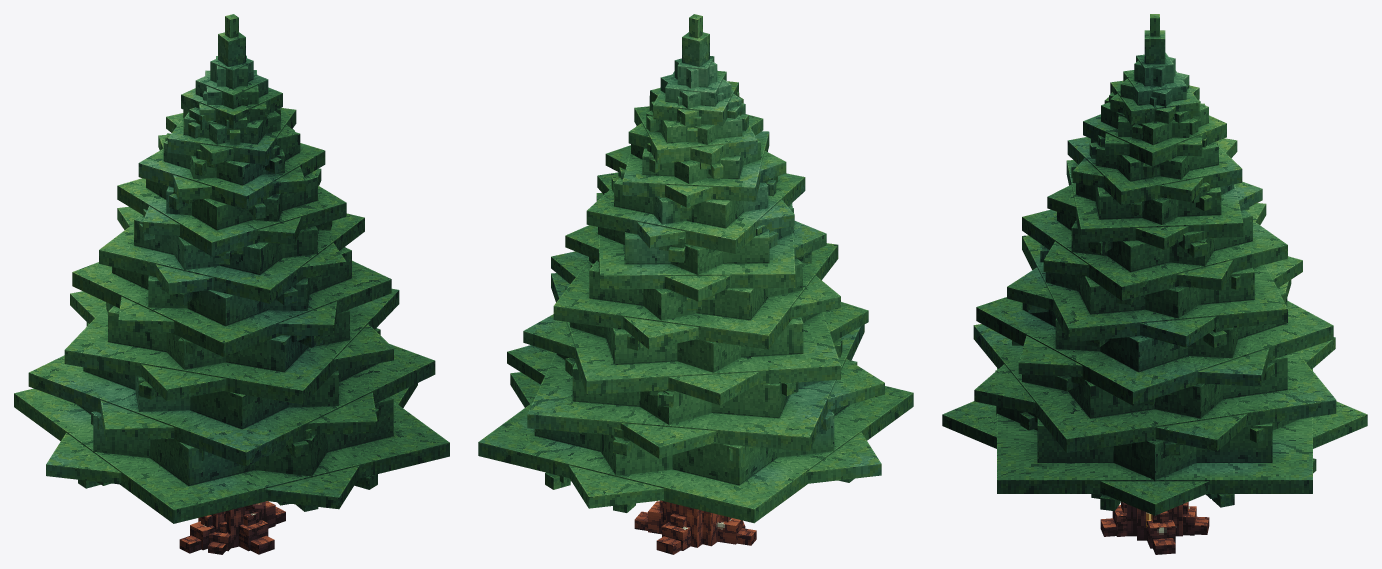
File: pine.glb
3 views of the same model, side by side, from view 1: azimuth 30°, elevation 25°; view 2: azimuth 150°, elevation 25°; view 3: azimuth 270°, elevation 25° (orthographic).
Parts seen in each view (by area): view 1: tier0_skirt_a, tier1_skirt_a, tier2_skirt_a, tier3_skirt_a, tier4_skirt_a, tier0_skirt_b, tier5_skirt_a, tier2_skirt_b, tier0_mid_a, tier1_skirt_b, tier6_skirt_a, tier1_mid_a (+26 smaller); view 2: tier0_skirt_a, tier1_skirt_a, tier2_skirt_a, tier3_skirt_a, tier0_skirt_b, tier4_skirt_a, tier1_skirt_b, tier5_skirt_a, tier2_skirt_b, tier0_mid_a, tier3_skirt_b, tier6_skirt_a (+28 smaller); view 3: tier0_skirt_a, tier1_skirt_a, tier2_skirt_a, tier3_skirt_a, tier4_skirt_a, tier0_skirt_b, tier1_skirt_b, tier5_skirt_a, tier2_skirt_b, tier3_skirt_b, tier6_skirt_a, tier0_mid_a (+28 smaller).
Part boxes in pixels (bbox=[...]): tier0_skirt_a: bbox=[14, 388, 449, 523]; tier1_skirt_a: bbox=[28, 344, 435, 466]; tier2_skirt_a: bbox=[64, 288, 399, 404]; tier3_skirt_a: bbox=[72, 260, 391, 357]; tier4_skirt_a: bbox=[99, 213, 364, 303]; tier0_skirt_b: bbox=[46, 383, 417, 509]; tier5_skirt_a: bbox=[117, 178, 346, 256]; tier2_skirt_b: bbox=[70, 291, 393, 400]; tier0_mid_a: bbox=[77, 396, 393, 485]; tier1_skirt_b: bbox=[86, 322, 377, 440]; tier6_skirt_a: bbox=[138, 143, 325, 210]; tier1_mid_a: bbox=[83, 328, 380, 429]; tier0_skirt_a: bbox=[478, 386, 913, 523]; tier1_skirt_a: bbox=[527, 324, 864, 451]; tier2_skirt_a: bbox=[551, 273, 840, 394]; tier3_skirt_a: bbox=[553, 243, 838, 349]; tier0_skirt_b: bbox=[510, 372, 881, 508]; tier4_skirt_a: bbox=[596, 193, 795, 289]; tier1_skirt_b: bbox=[507, 345, 884, 458]; tier5_skirt_a: bbox=[586, 173, 805, 253]; tier2_skirt_b: bbox=[523, 302, 868, 405]; tier0_mid_a: bbox=[534, 360, 857, 485]; tier3_skirt_b: bbox=[551, 251, 840, 349]; tier6_skirt_a: bbox=[622, 126, 769, 201]; tier0_skirt_a: bbox=[997, 368, 1312, 493]; tier1_skirt_a: bbox=[973, 324, 1336, 452]; tier2_skirt_a: bbox=[976, 297, 1333, 405]; tier3_skirt_a: bbox=[1022, 235, 1287, 342]; tier4_skirt_a: bbox=[1022, 209, 1287, 300]; tier0_skirt_b: bbox=[942, 401, 1367, 515]; tier1_skirt_b: bbox=[974, 337, 1335, 451]; tier5_skirt_a: bbox=[1066, 160, 1243, 242]; tier2_skirt_b: bbox=[1018, 280, 1291, 386]; tier3_skirt_b: bbox=[1007, 256, 1302, 347]; tier6_skirt_a: bbox=[1067, 137, 1242, 205]; tier0_mid_a: bbox=[1037, 418, 1272, 462].
Size of the model in its own units: 2.61 by 3.47 by 2.61.
Materials: 1 (1 with a texture image).
